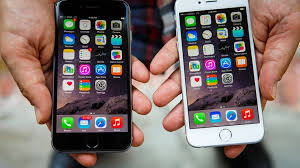iphone: (47, 1, 136, 157), (175, 1, 267, 148)
iphone6: (174, 1, 266, 148), (50, 1, 136, 153)
